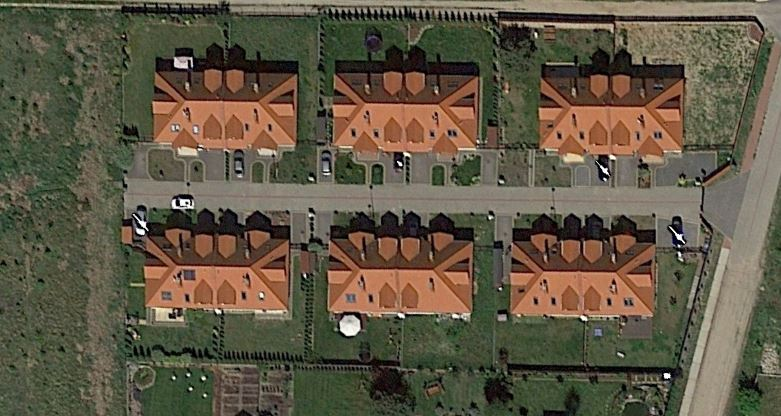terrace house: (143, 59, 303, 157), (325, 62, 485, 160), (531, 66, 691, 164), (501, 226, 659, 319), (322, 226, 478, 320), (139, 223, 296, 314)
